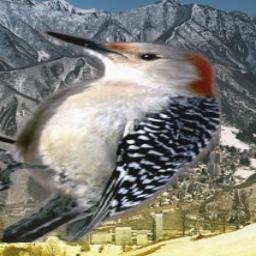Woodpecker: (0, 29, 222, 243)
